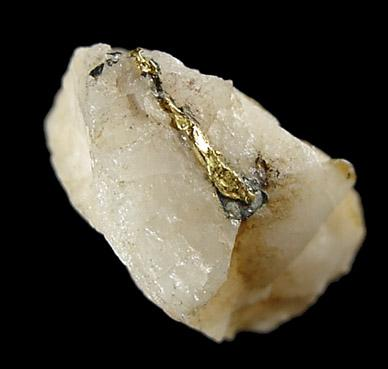gold: (132, 48, 265, 206)
